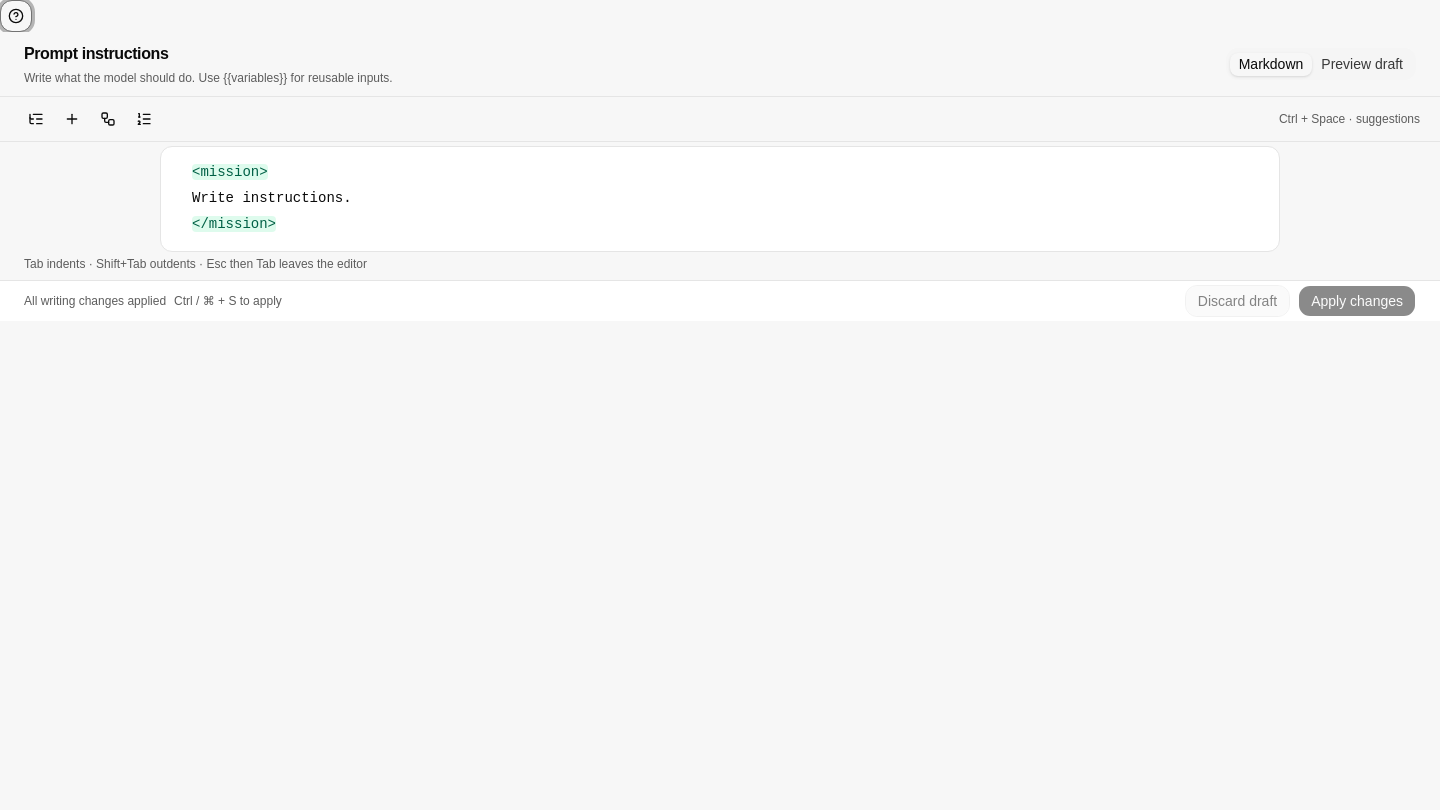
Test: opens a searchable offline guide from Help and returns focus without changing the prompt
Later steps or results of the test are not shown.
Press the mouse on the 1st button named "Help": (16, 16) [0, 0, 32, 32]
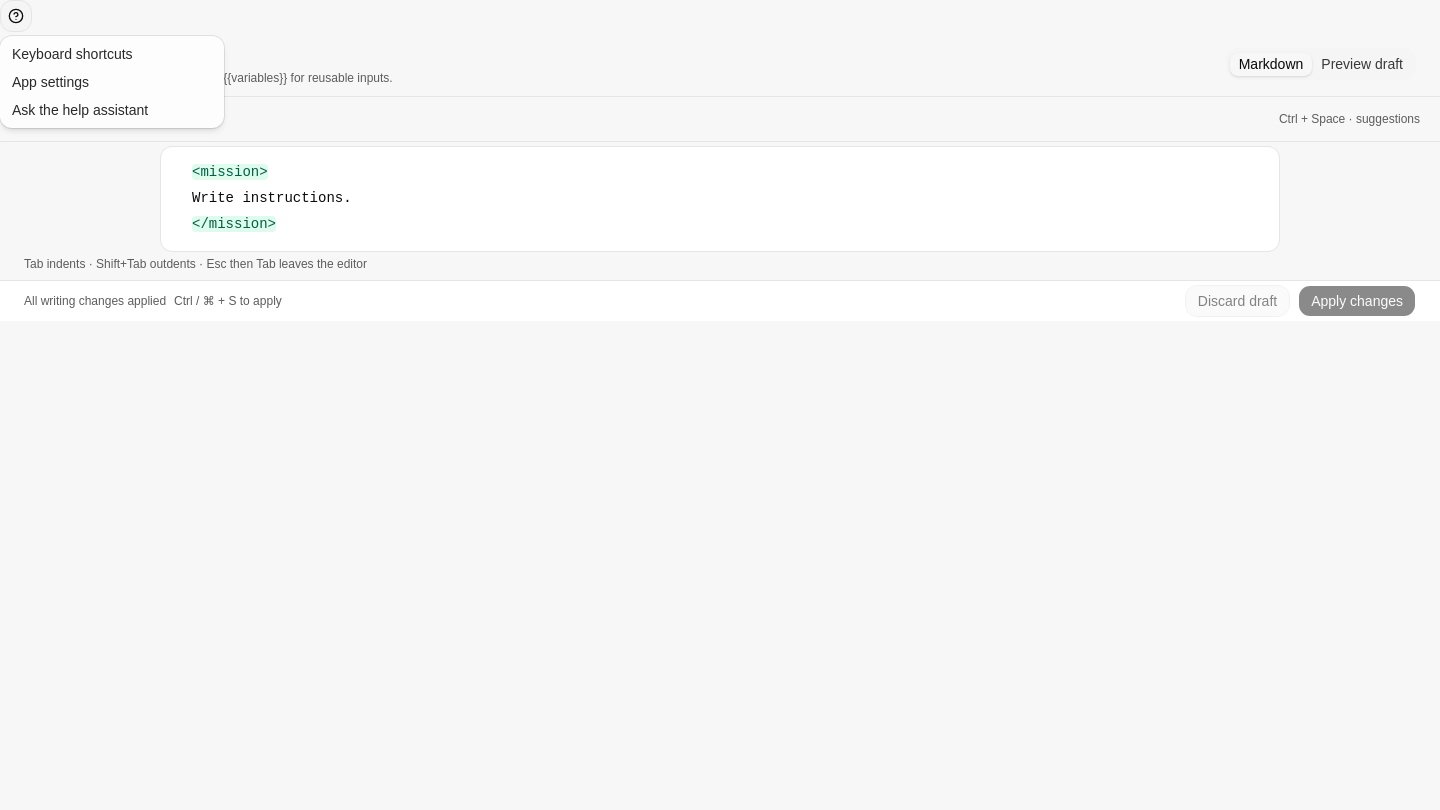
Click the menu item "Keyboard shortcuts": (72, 54) [12, 46, 133, 62]
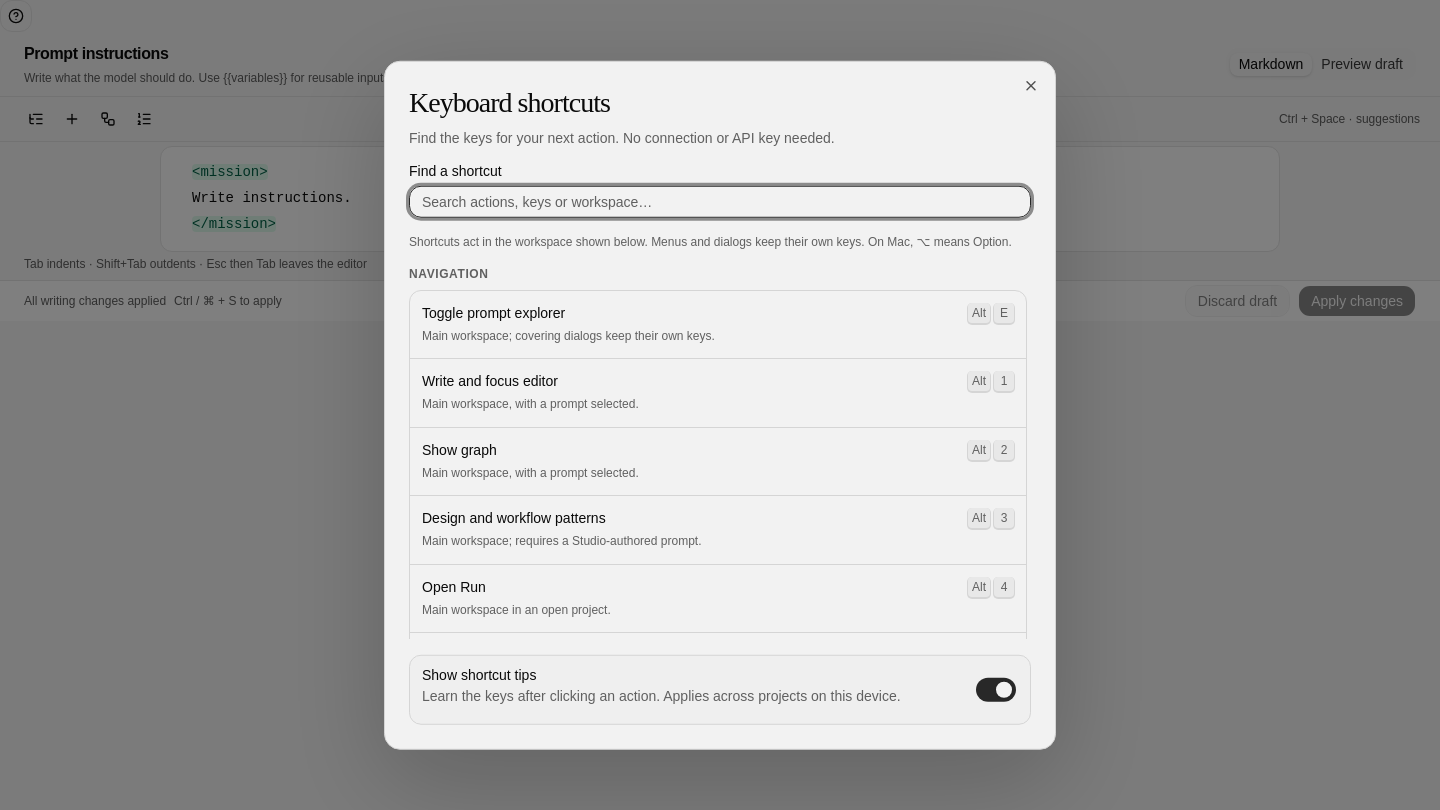
Result: the dialog "Keyboard shortcuts" is shown at [384, 61, 1056, 749]
In the field labelled "Find a shortcut": (720, 201) [409, 185, 1031, 217], type "subsection"
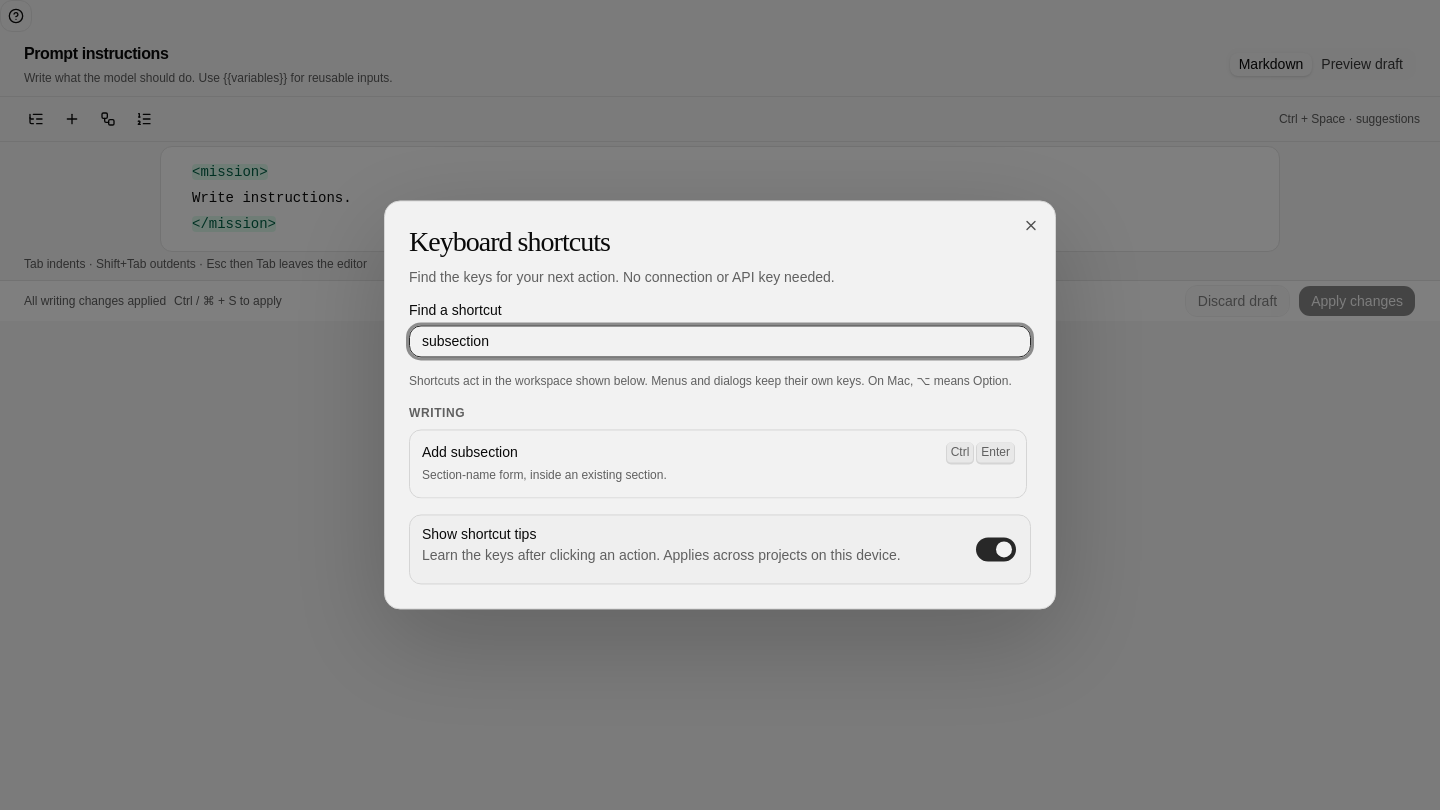
Result: the text "Add subsection" is shown at [422, 442, 518, 462]
Result: the text "Open Run" is gone
Replace the text in the field labelled "Find a shortcut" with "nothing-matches": (720, 341) [409, 325, 1031, 357]
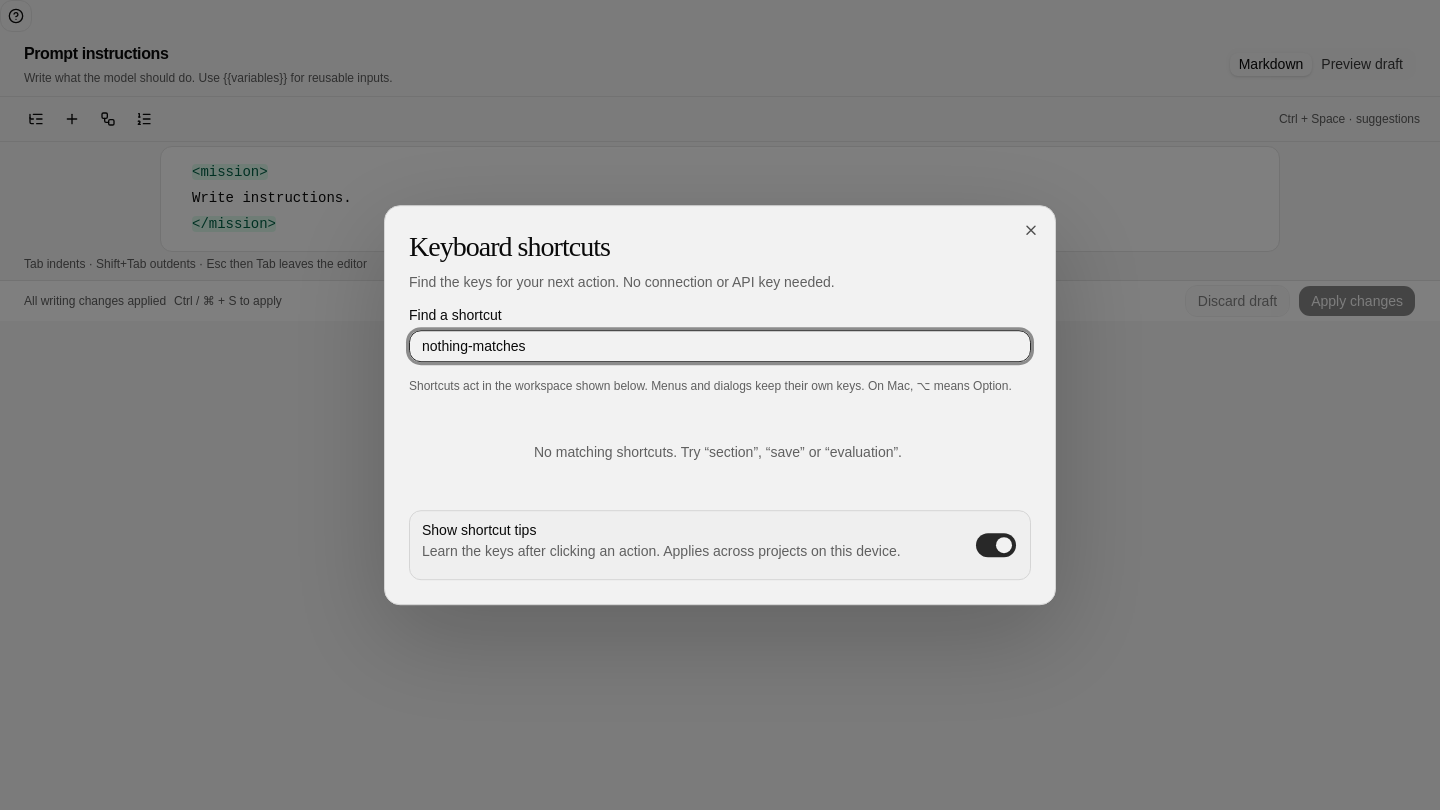
Result: the text "No matching shortcuts" is shown at [534, 444, 902, 460]
